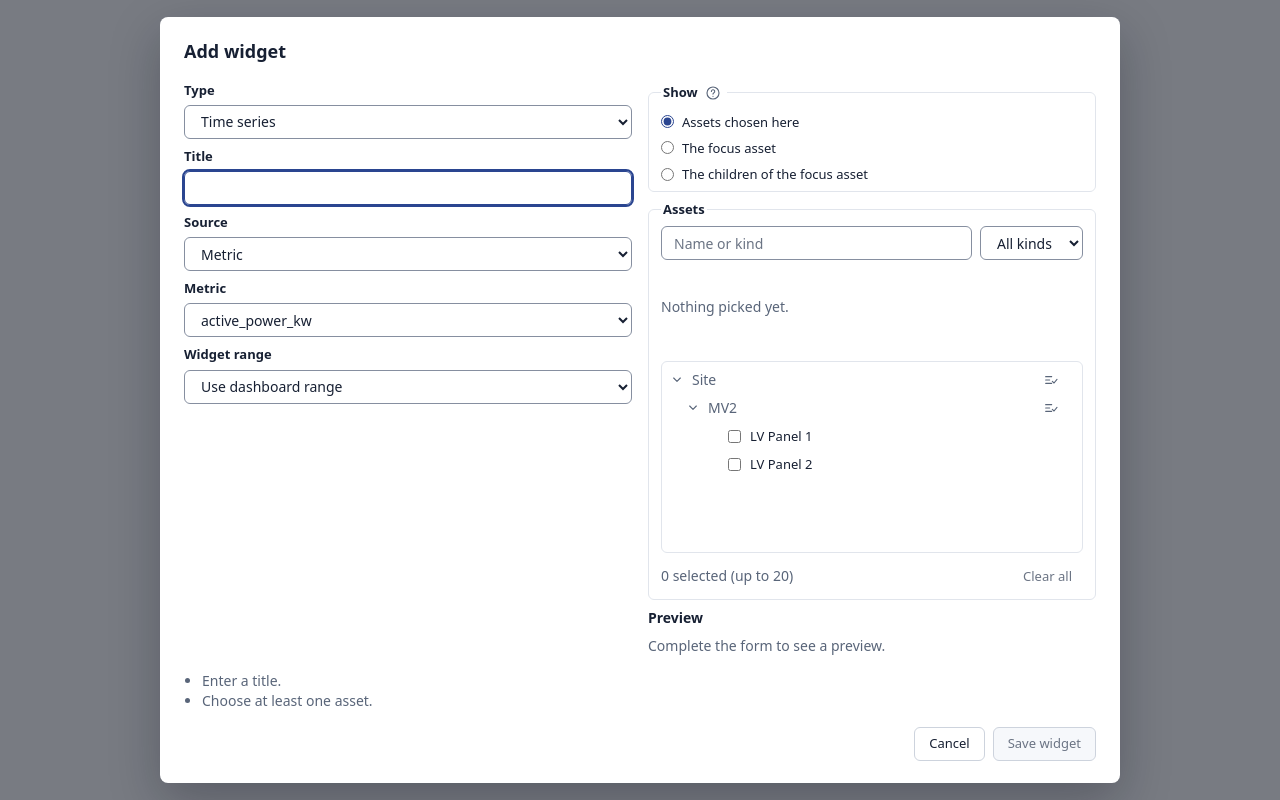
which assets a metric widget may list › says so when no asset has the metric, and cannot be saved
Type "F" into the field labelled "Title" at (408,188), box [184,171,632,205]
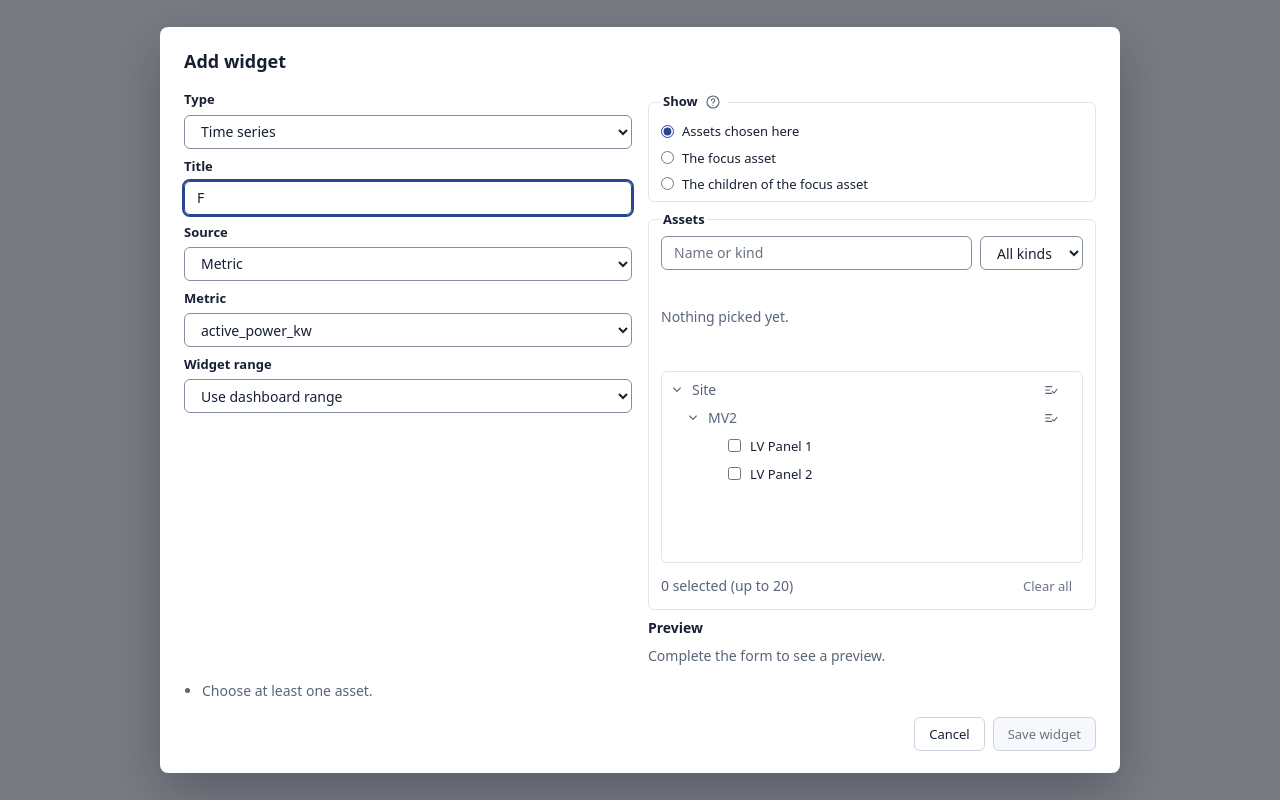
Click the checkbox labelled "LV Panel 1" at (734,446), box [728,440,741,452]
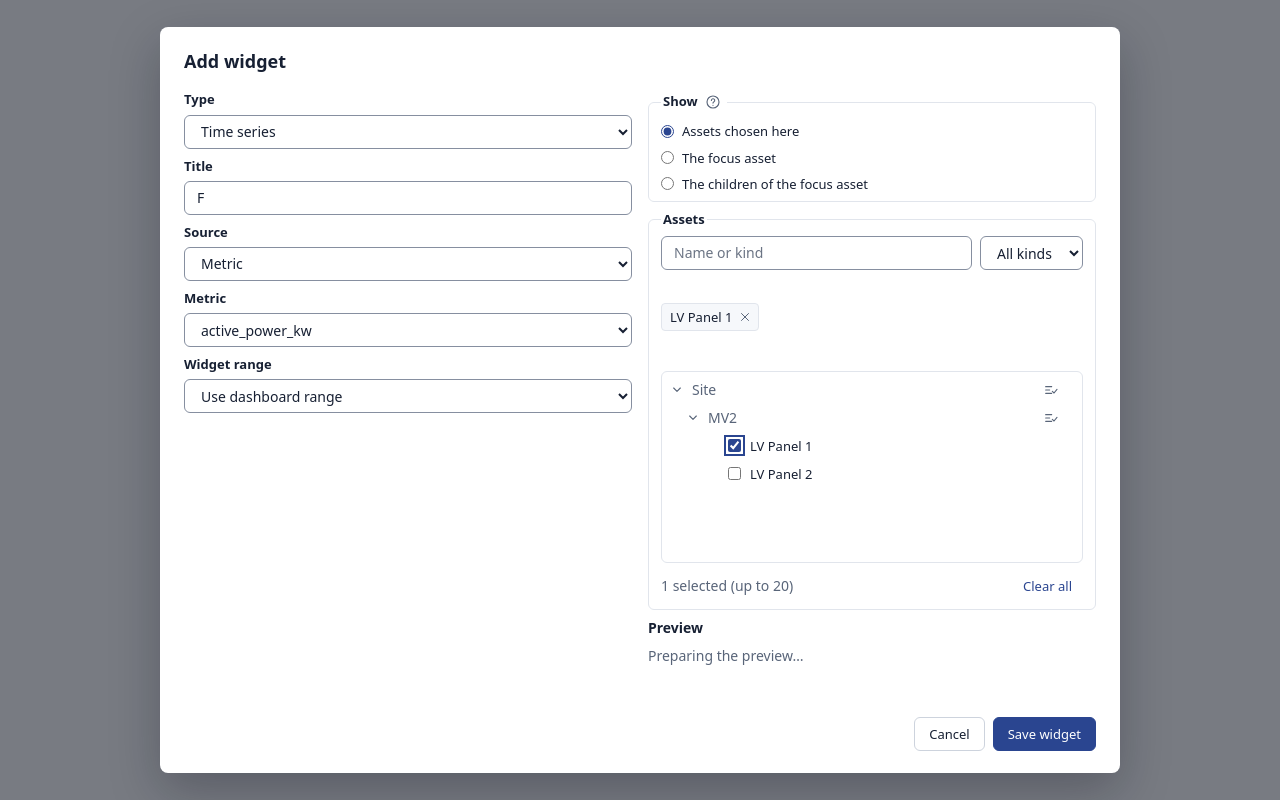
Select "frequency_hz" in the dropdown labelled "Metric" at (408,330), box [184,313,632,347]
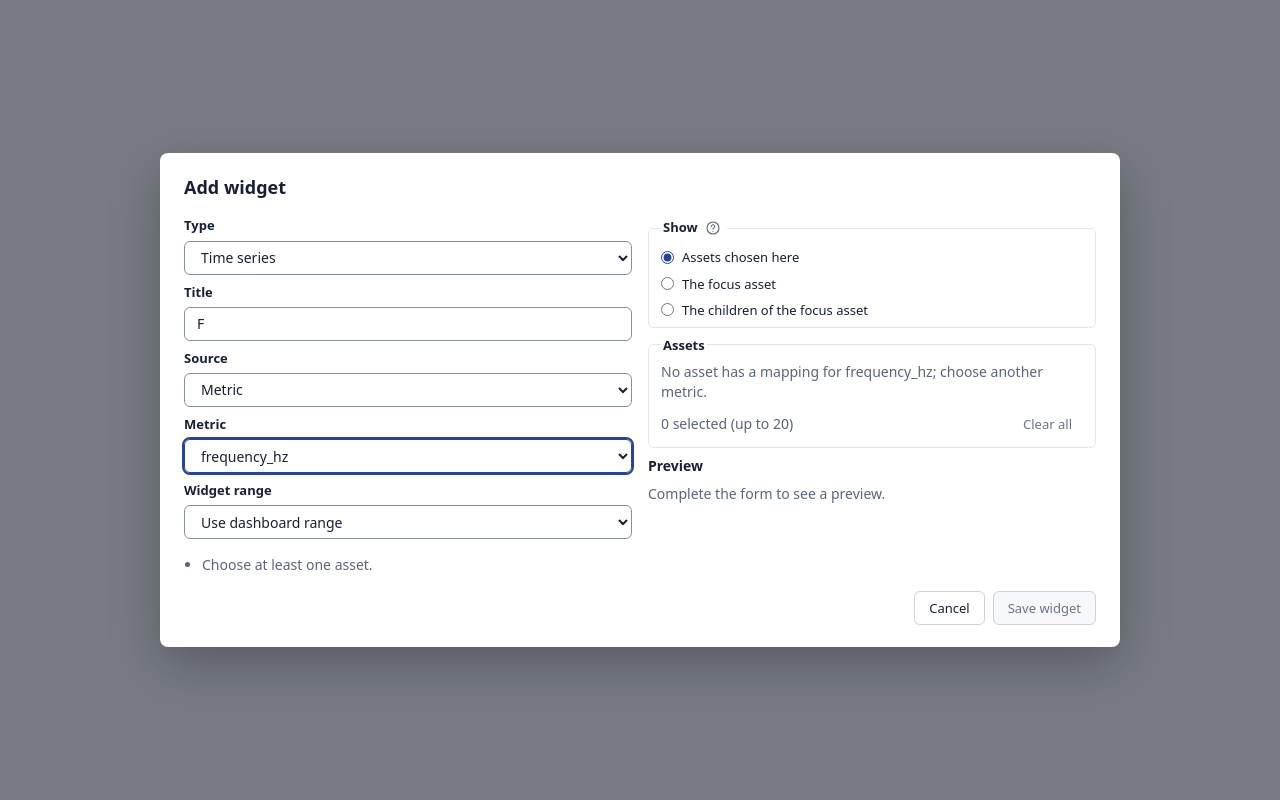
Expected: the text "No asset has a mapping for frequency_hz; choose another metric." is shown, [661,362,1083,401]
Expected: the text "0 selected (up to 20)" is shown, [661,414,793,434]
Expected: the list item "Choose at least one asset." is shown, [202,555,373,574]
